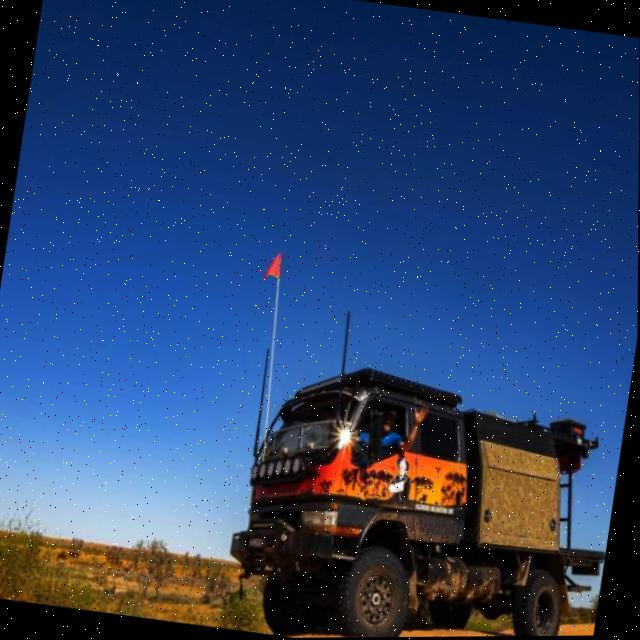truck: (217, 352, 628, 638)
